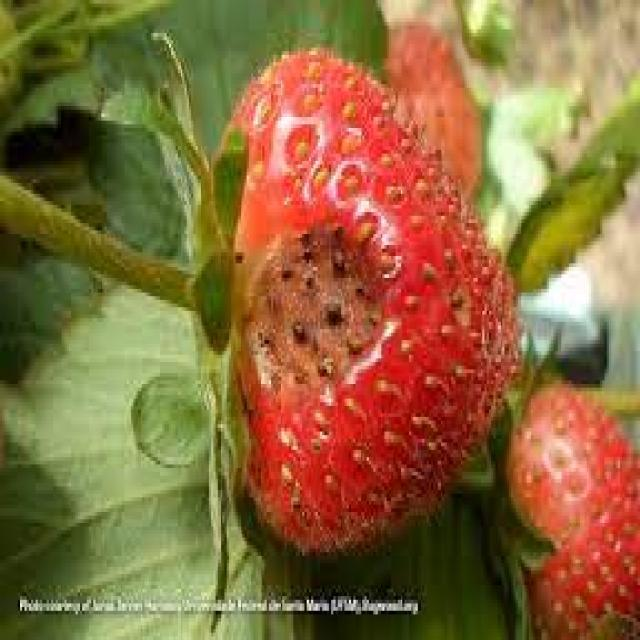Mancha negra Antracnosis: (204, 12, 516, 542)
